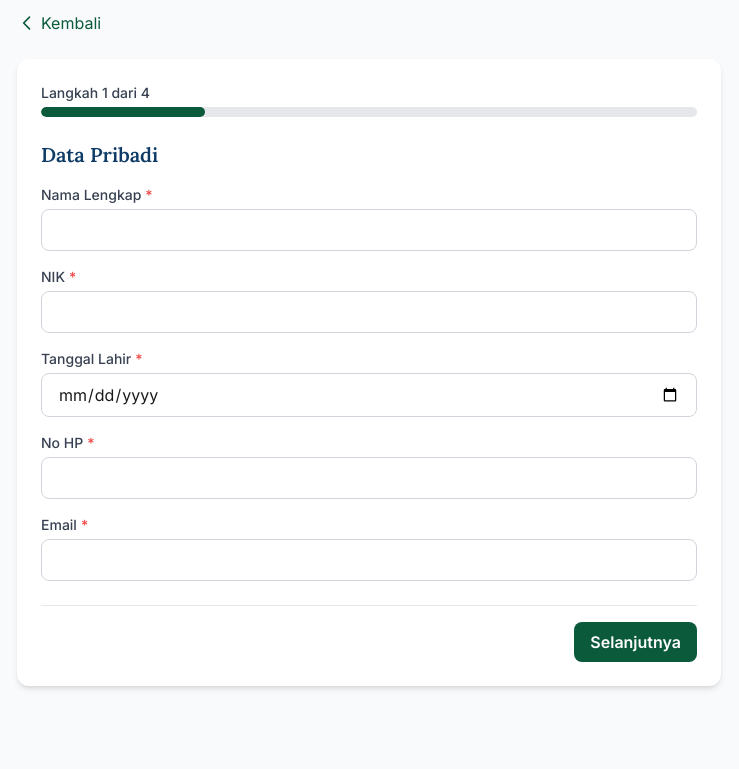
Test: EnrollmentPage › Step 1: Data Pribadi › shows error when trying to advance with empty fields
Click the button "Selanjutnya". click: x=636, y=642
box: [574,622,697,662]
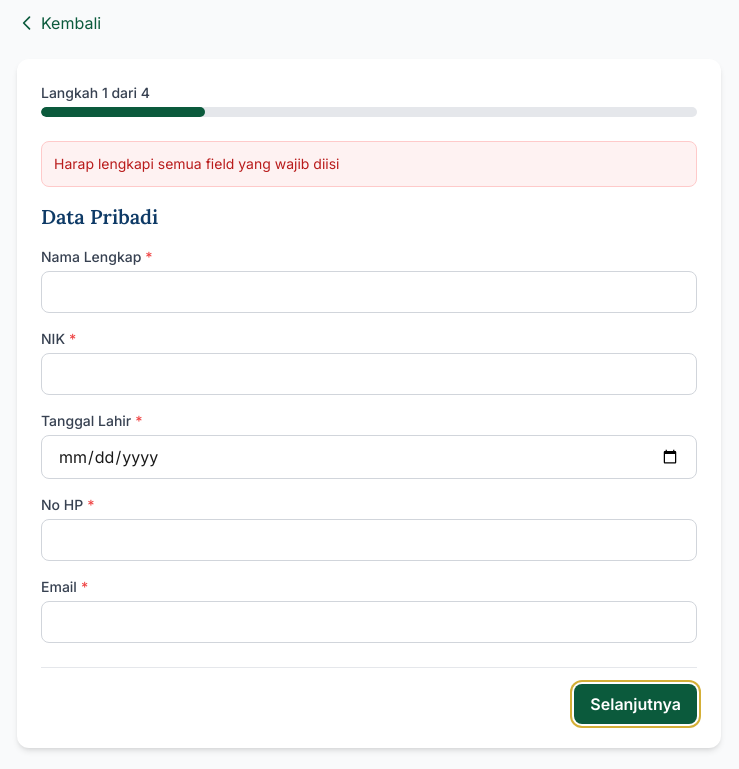
Expected: the text "Harap lengkapi semua field yang wajib diisi" is shown, [41,141,697,187]
